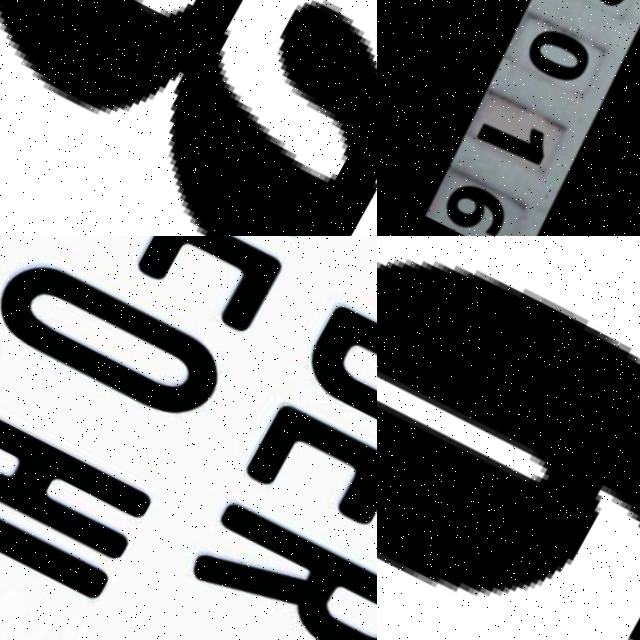0: (0, 242, 238, 443), (510, 9, 615, 105)
1: (469, 90, 568, 181)
3: (0, 0, 377, 236), (556, 0, 640, 26)
6: (377, 236, 640, 640), (430, 164, 529, 236)
D: (291, 299, 377, 503)
E: (236, 396, 377, 600)
F: (35, 236, 286, 347)
H: (0, 383, 155, 578)
L: (0, 459, 112, 640)
R: (185, 492, 377, 640)
